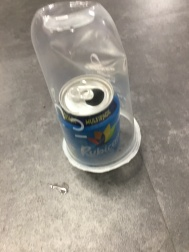can_blue: (47, 68, 136, 180)
